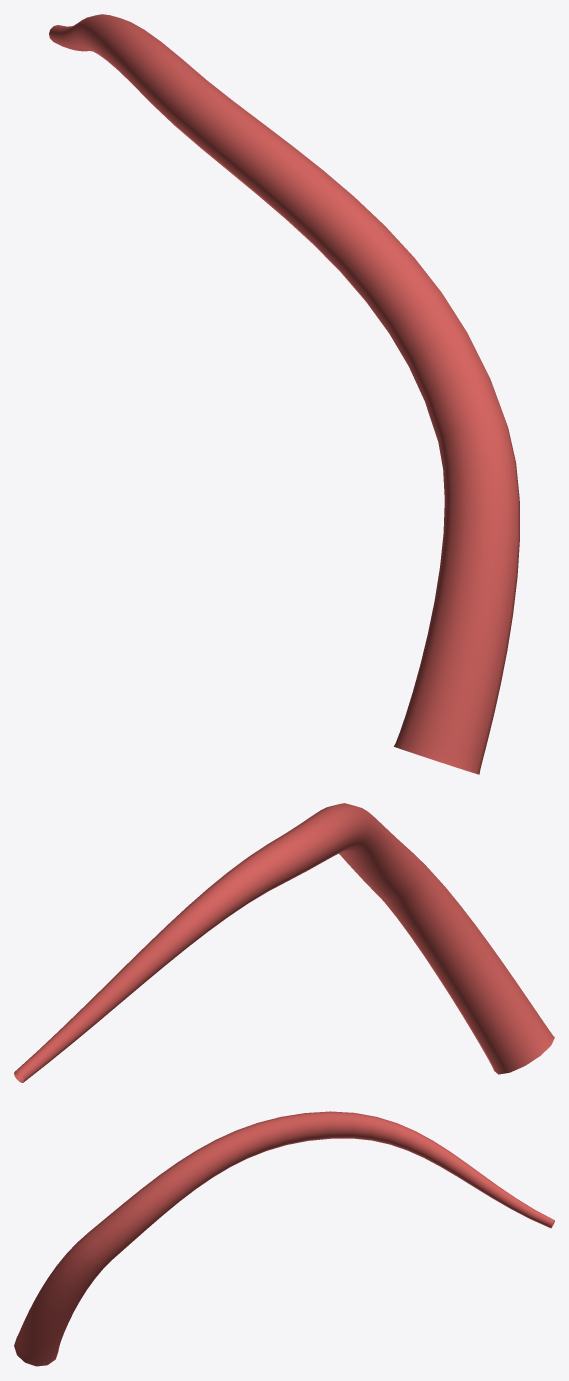
3 renders of one model, top to bottom at view 1: azimuth 30°, elevation 25°; view 2: azimuth 150°, elevation 25°; view 3: azimuth 270°, elevation 25°, orthographic. The views are drawn at different scales.
Parts seen in each view (by area): view 1: 左侧角回动脉; view 2: 左侧角回动脉; view 3: 左侧角回动脉.
Boxes of the visible parts, x1,y1,x2,y2 form: 左侧角回动脉: [49, 14, 519, 774]; 左侧角回动脉: [14, 803, 554, 1082]; 左侧角回动脉: [14, 1111, 554, 1366].
Bounding box in the file's own units: 0.00336 × 0.00898 × 0.0175.
